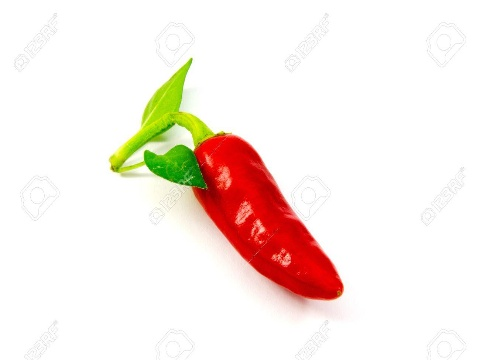Chilli: (100, 55, 371, 320)
